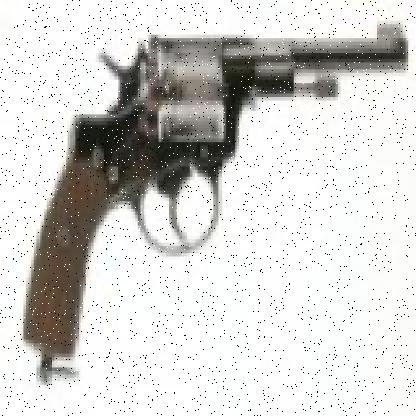pistol: (21, 17, 401, 357)
